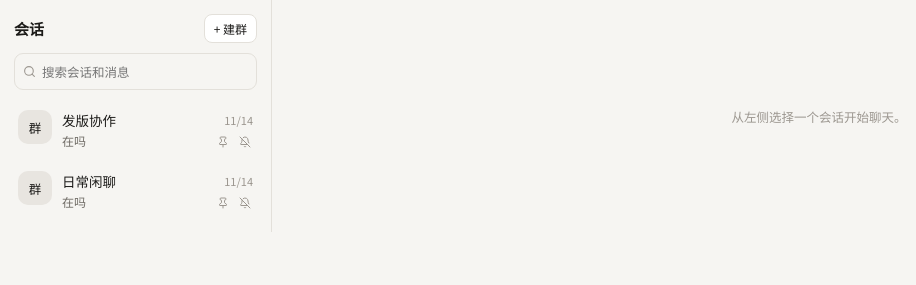
Test: 会话搜索框 › 输入关键词时既过滤会话标题，也把消息正文交给服务端搜
The width and height of the screenshot is (916, 285).
In the field labelled "搜索会话和消息": (136, 72) x1=14 y1=53 x2=257 y2=90, type "联调"
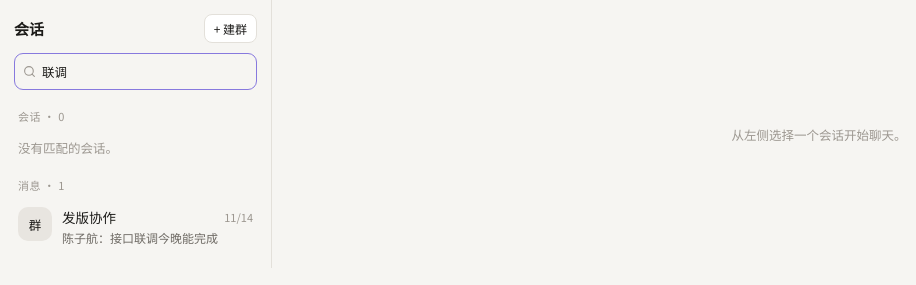
Check: the text "会话 · 0" is shown, box x1=18 y1=108 x2=65 y2=124
Check: the text "陈子航：接口联调今晚能完成" is shown, box x1=62 y1=229 x2=218 y2=246
Check: the text "消息 · 1" is shown, box x1=18 y1=177 x2=65 y2=193
